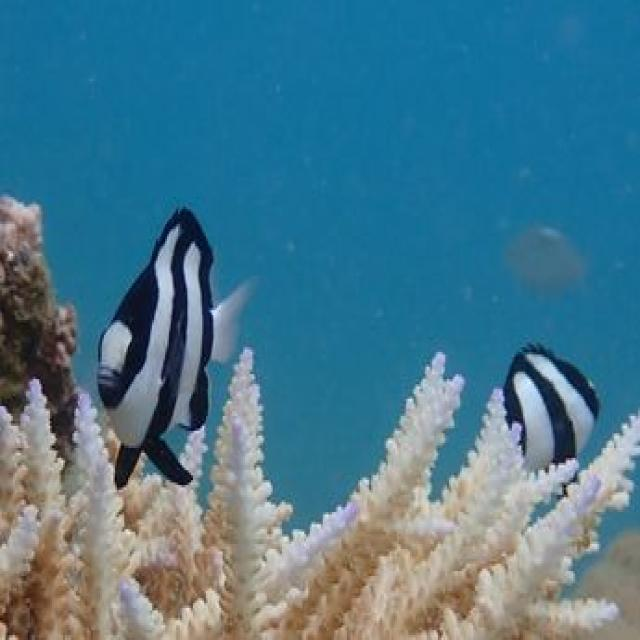ThreeStripedDamselfish: (95, 207, 260, 490)
